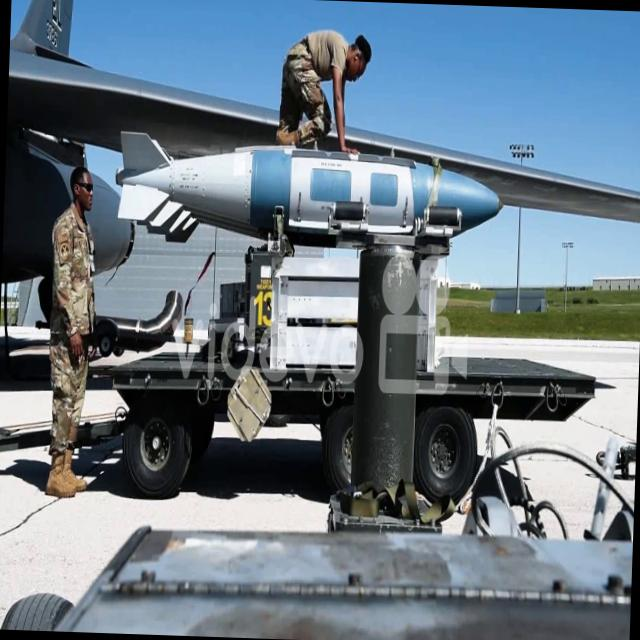rocket: (115, 124, 511, 252)
